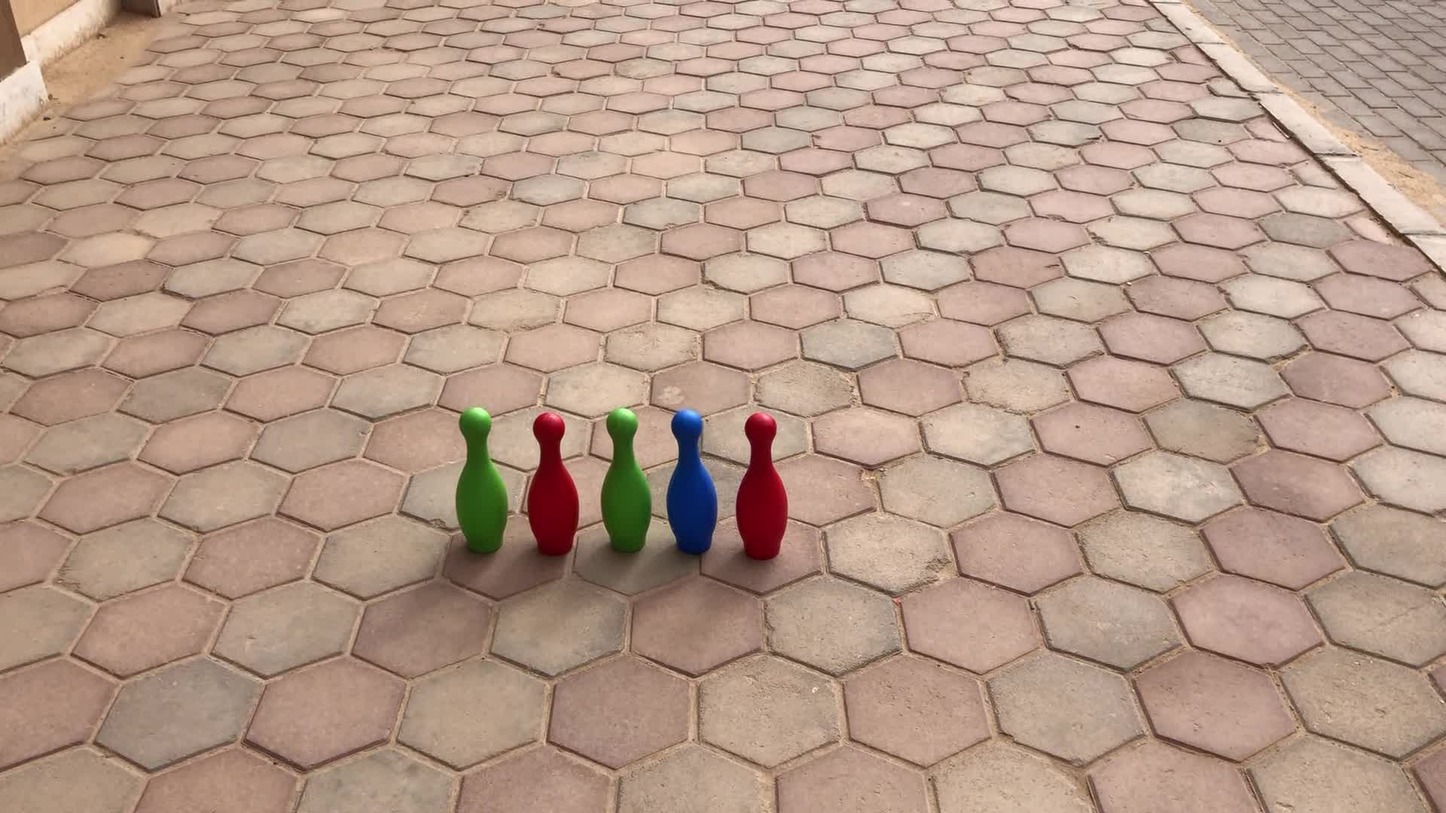bowling-pin: (456, 409, 508, 552), (527, 413, 579, 555), (737, 413, 787, 559), (667, 412, 717, 553), (602, 409, 651, 552)
